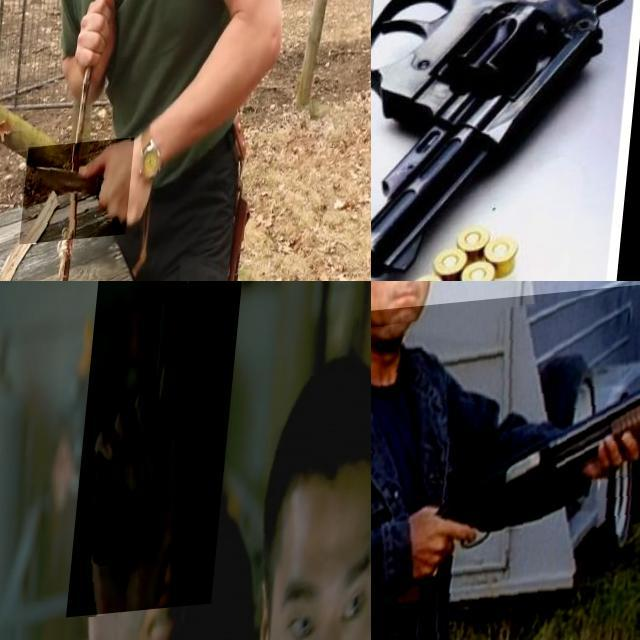-: (30, 143, 143, 248)
gun-knife-thesis - v11 Yolov5 augmented: (371, 281, 640, 640), (371, 0, 640, 281), (73, 281, 247, 620), (371, 0, 533, 281)
